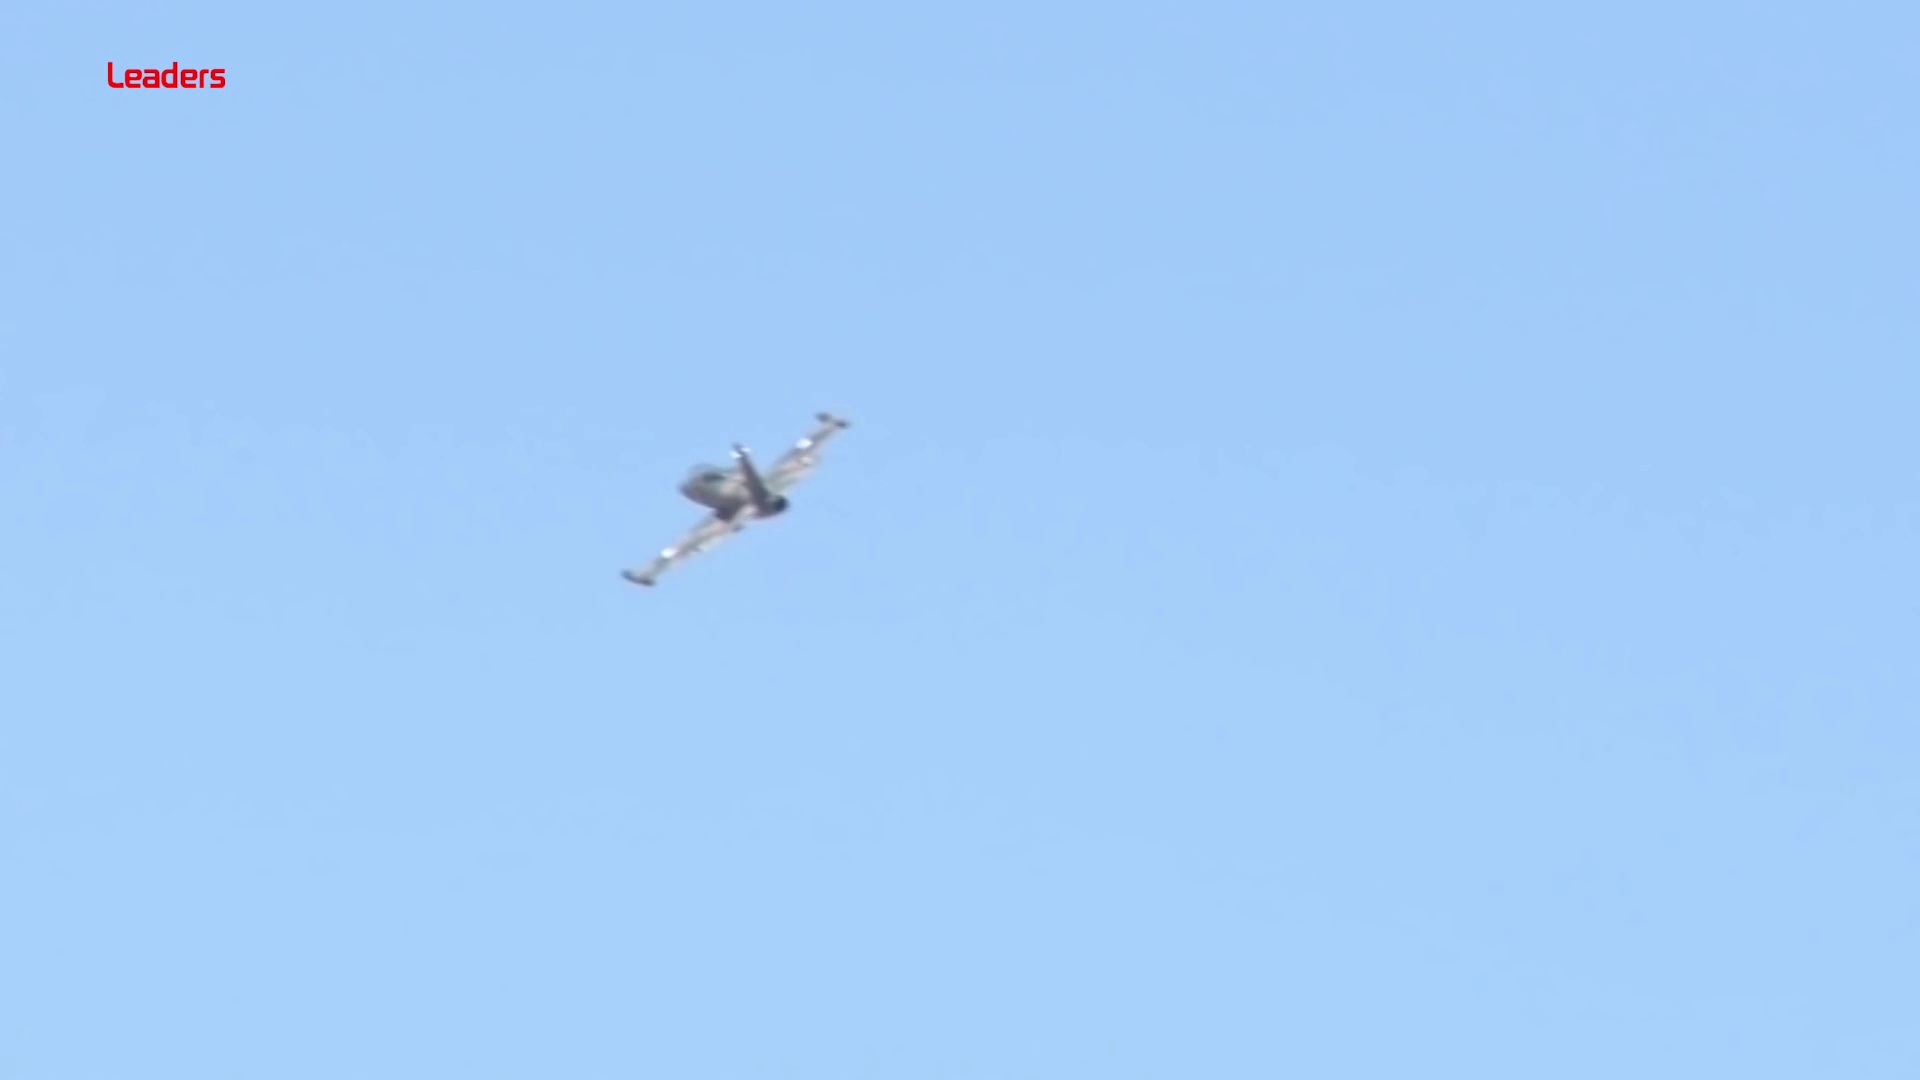Airplane: (621, 407, 855, 597)
